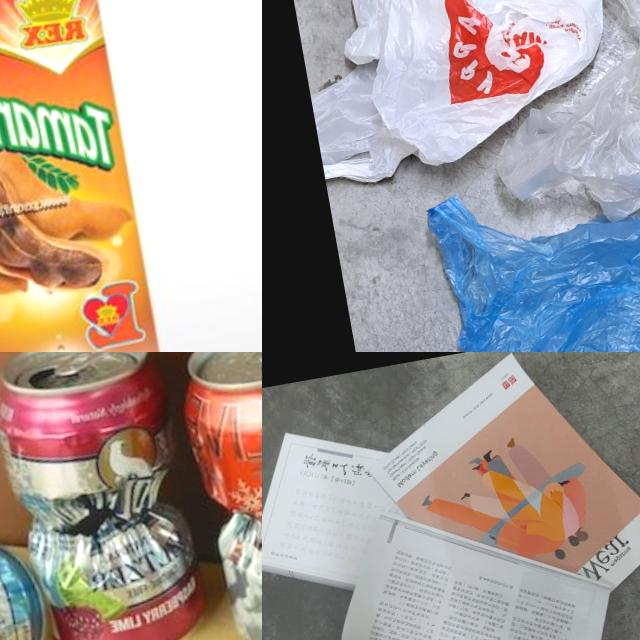aba de lata: (50, 352, 121, 377)
caixinha: (0, 0, 180, 352)
lata: (0, 352, 211, 640), (173, 352, 262, 640)
papel: (262, 352, 640, 640)
sacola plástica: (271, 0, 628, 190), (421, 147, 640, 352), (460, 0, 640, 237)
